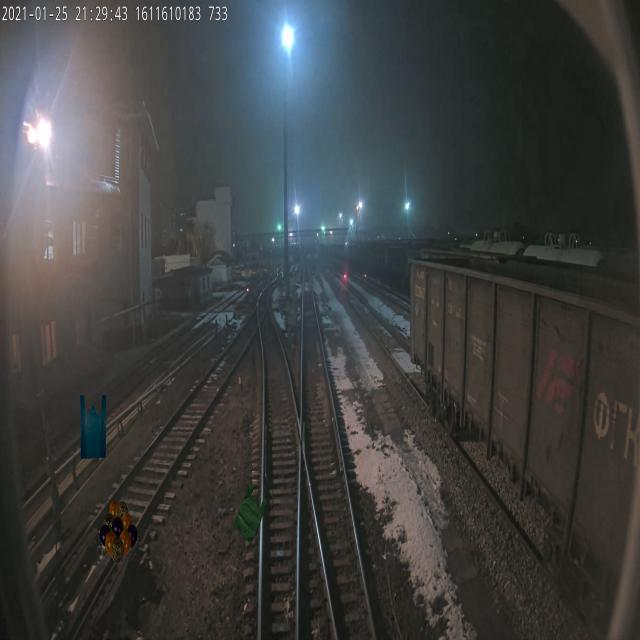balloon: (99, 500, 138, 564), (233, 482, 268, 546)
plastic bag: (80, 394, 106, 458)
